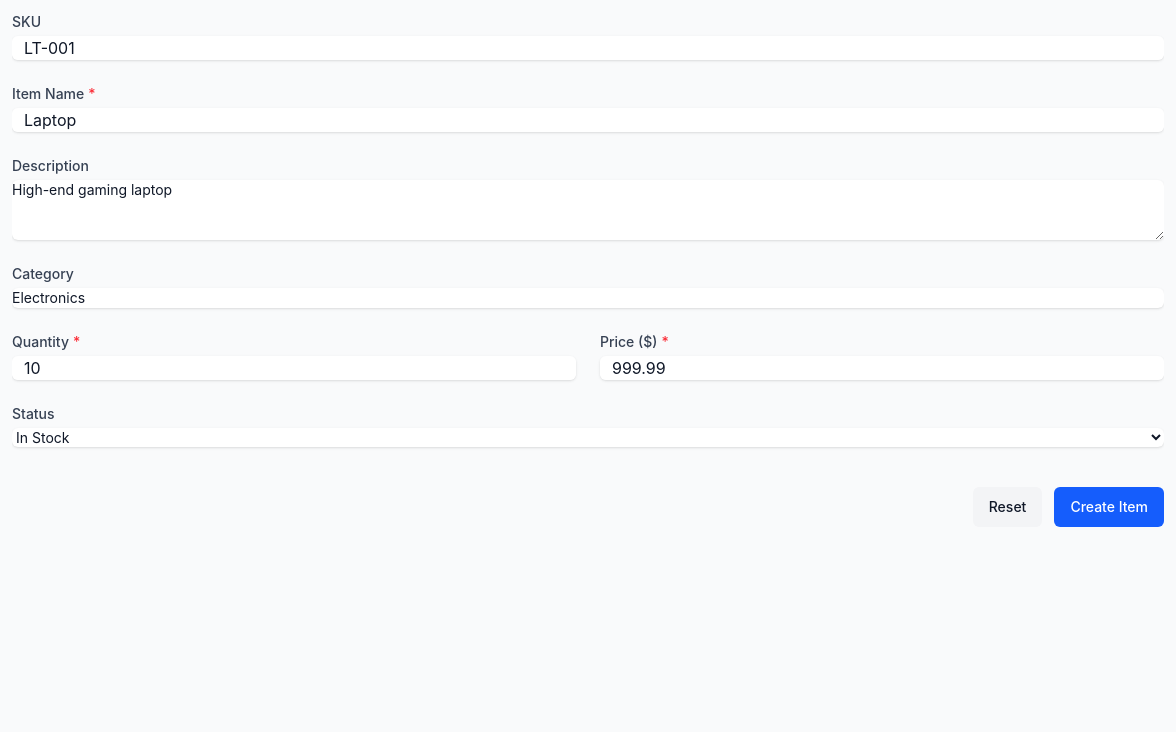
Test case: ItemForm › resets form when reset button is clicked
The image size is (1176, 732).
Replace the text in the field labelled "Item Name *" with "Changed": (588, 120) [12,108,1164,132]
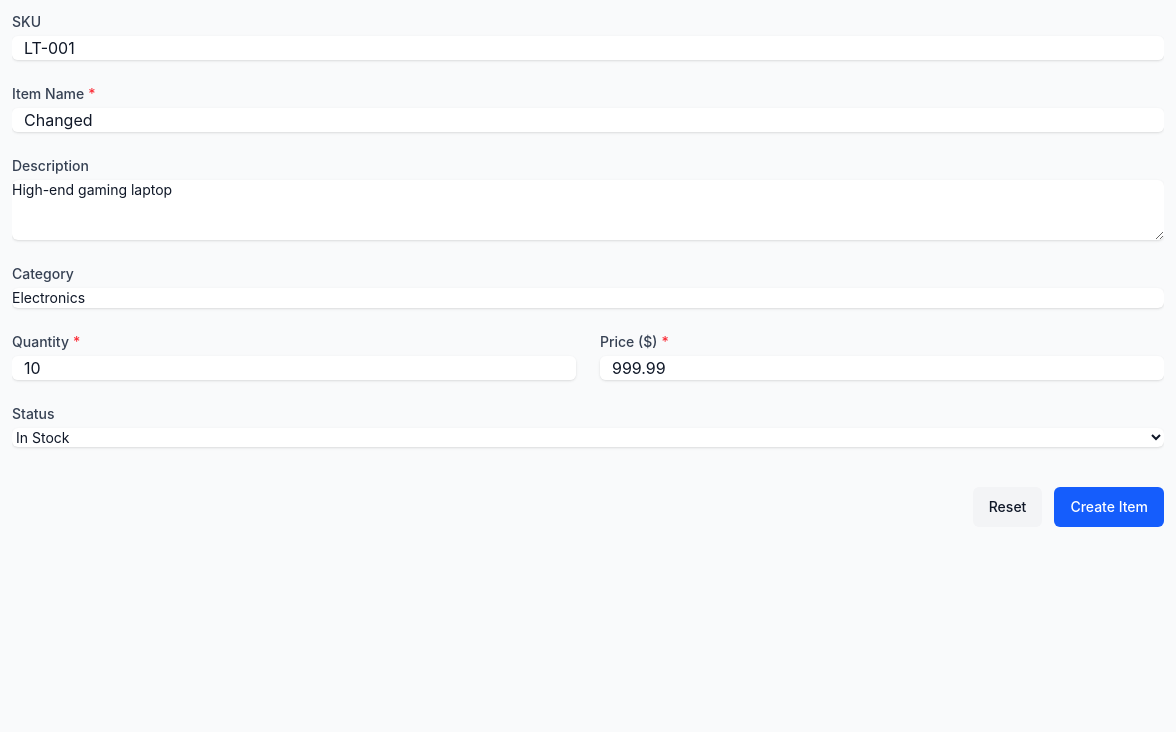
Replace the text in the number field labelled "Quantity *" with "999": (294, 368) [12,356,576,380]
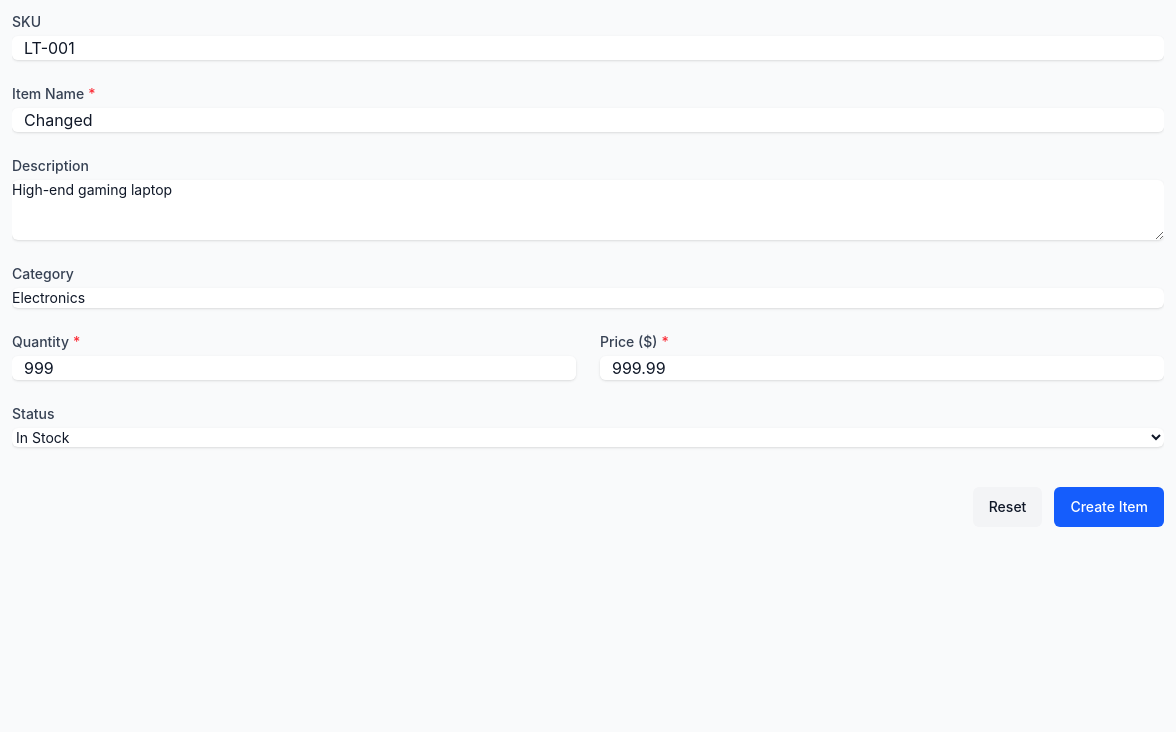
// Click reset
Click the button "Reset": (1008, 507) [973,487,1042,527]
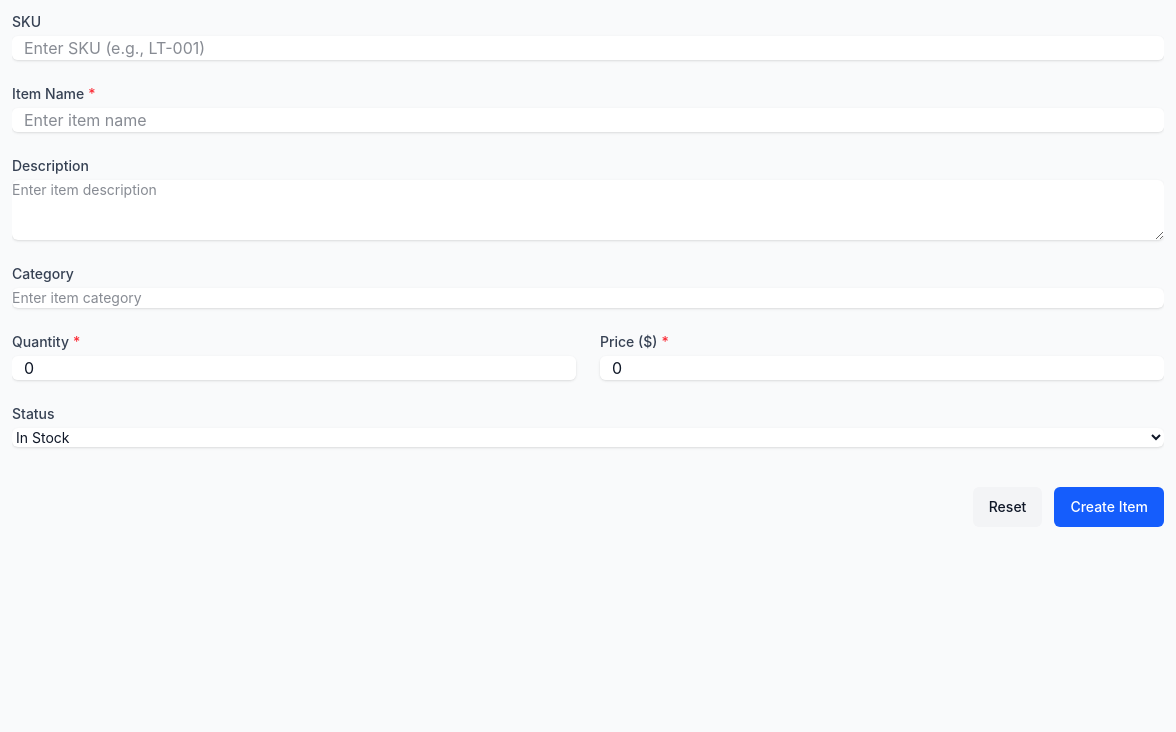
Check: the field labelled "Item Name *" is empty, box [12,108,1164,132]
Check: the number field labelled "Quantity *" holds "0", box [12,356,576,380]
